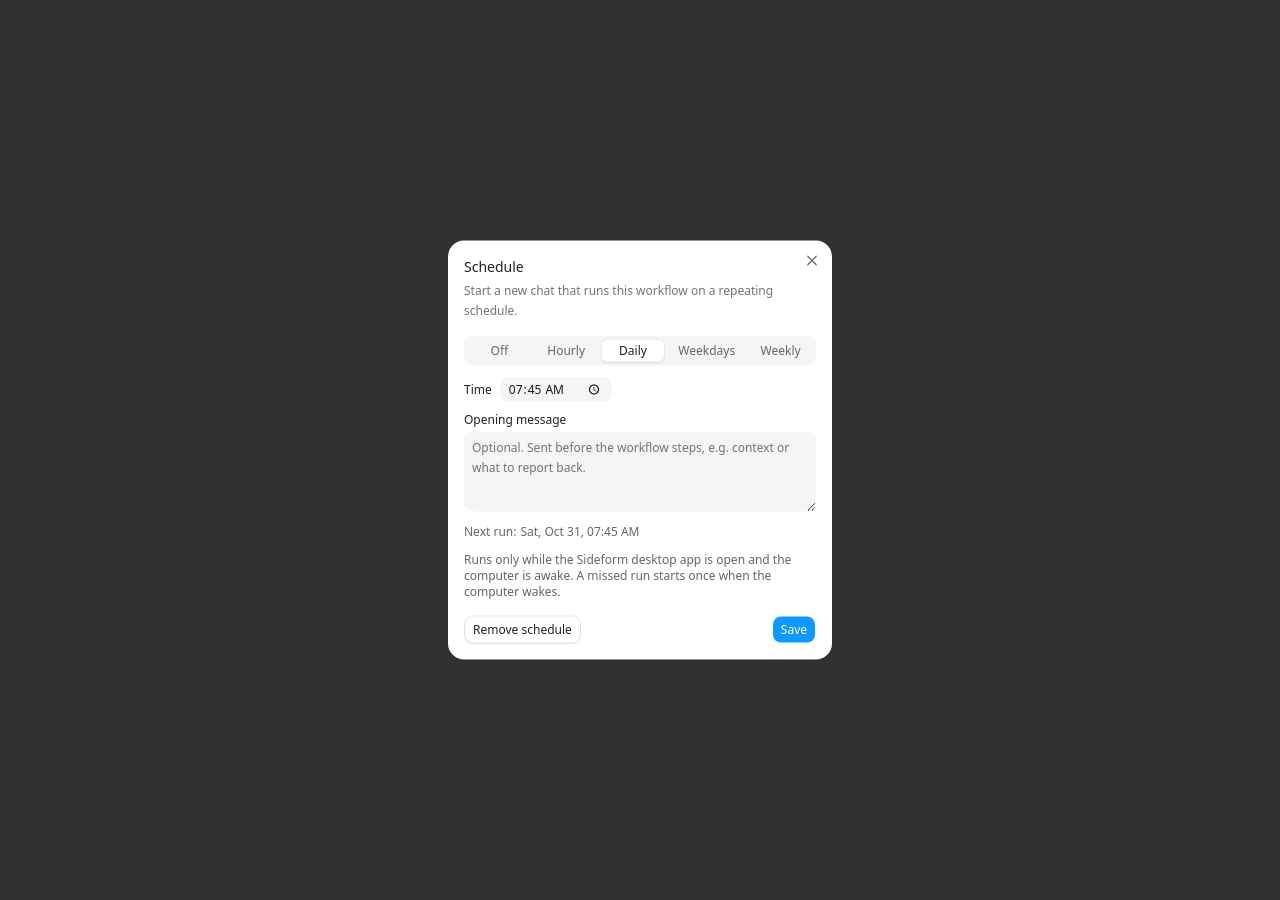
Test: ScheduleDialog › starts Hourly from the minutes of the time field as edited, not the saved ones
Replace the text in the time field labelled "Time" with "07:20" at (556, 390), box top-left (500, 378), bottom-right (612, 402)
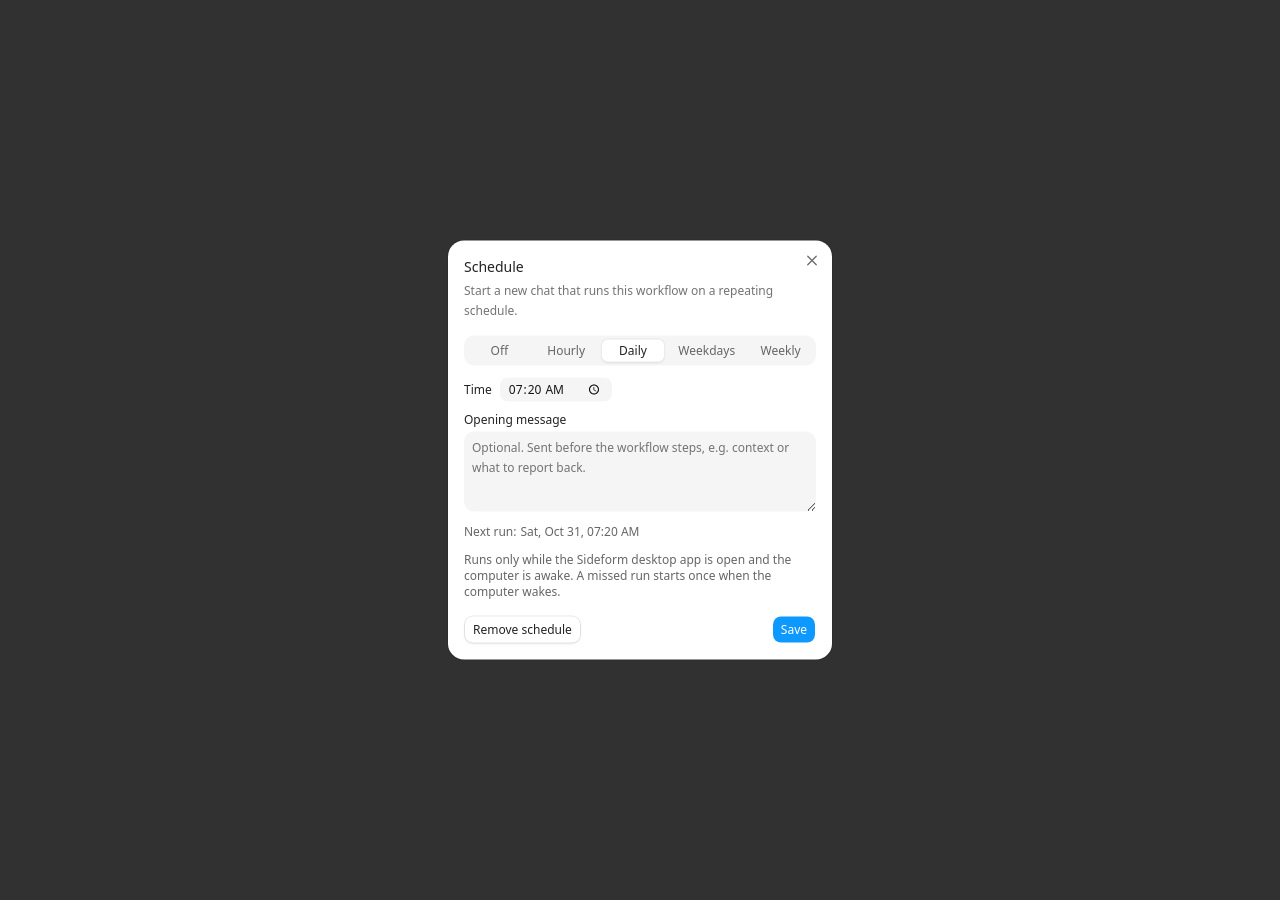
Click the radio button labelled "Hourly" at (566, 350), box top-left (547, 342), bottom-right (585, 359)
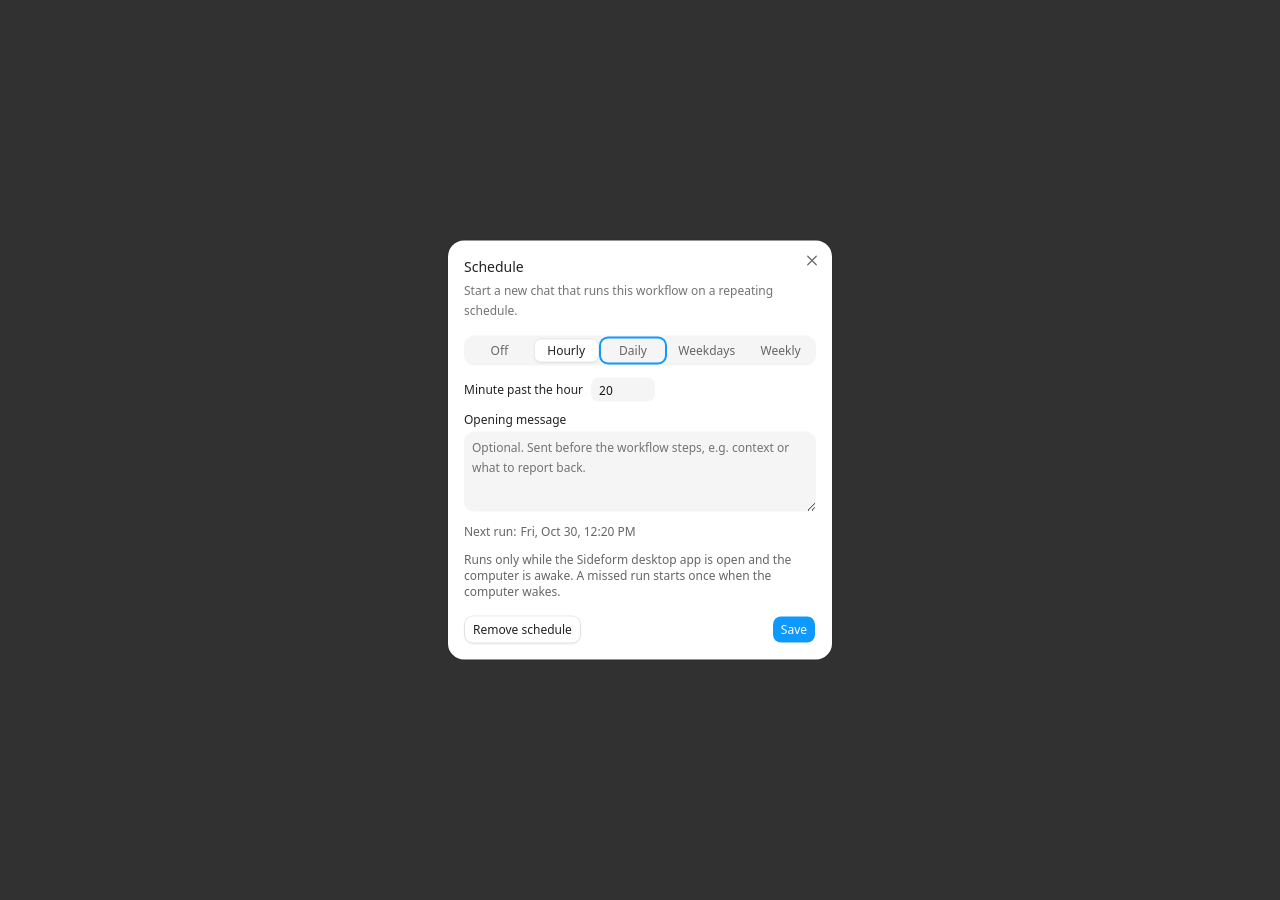
Result: the number field labelled "Minute past the hour" holds "20" at top-left (591, 378), bottom-right (655, 402)
